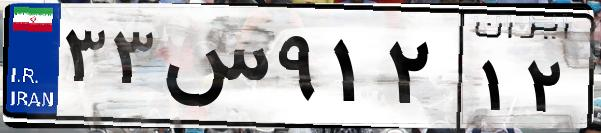1: (330, 28, 385, 110), (475, 38, 525, 113)
2: (385, 28, 445, 110), (525, 38, 570, 115)
3: (57, 26, 110, 100), (110, 28, 158, 98)
9: (270, 28, 330, 110)
س: (158, 20, 270, 120)
